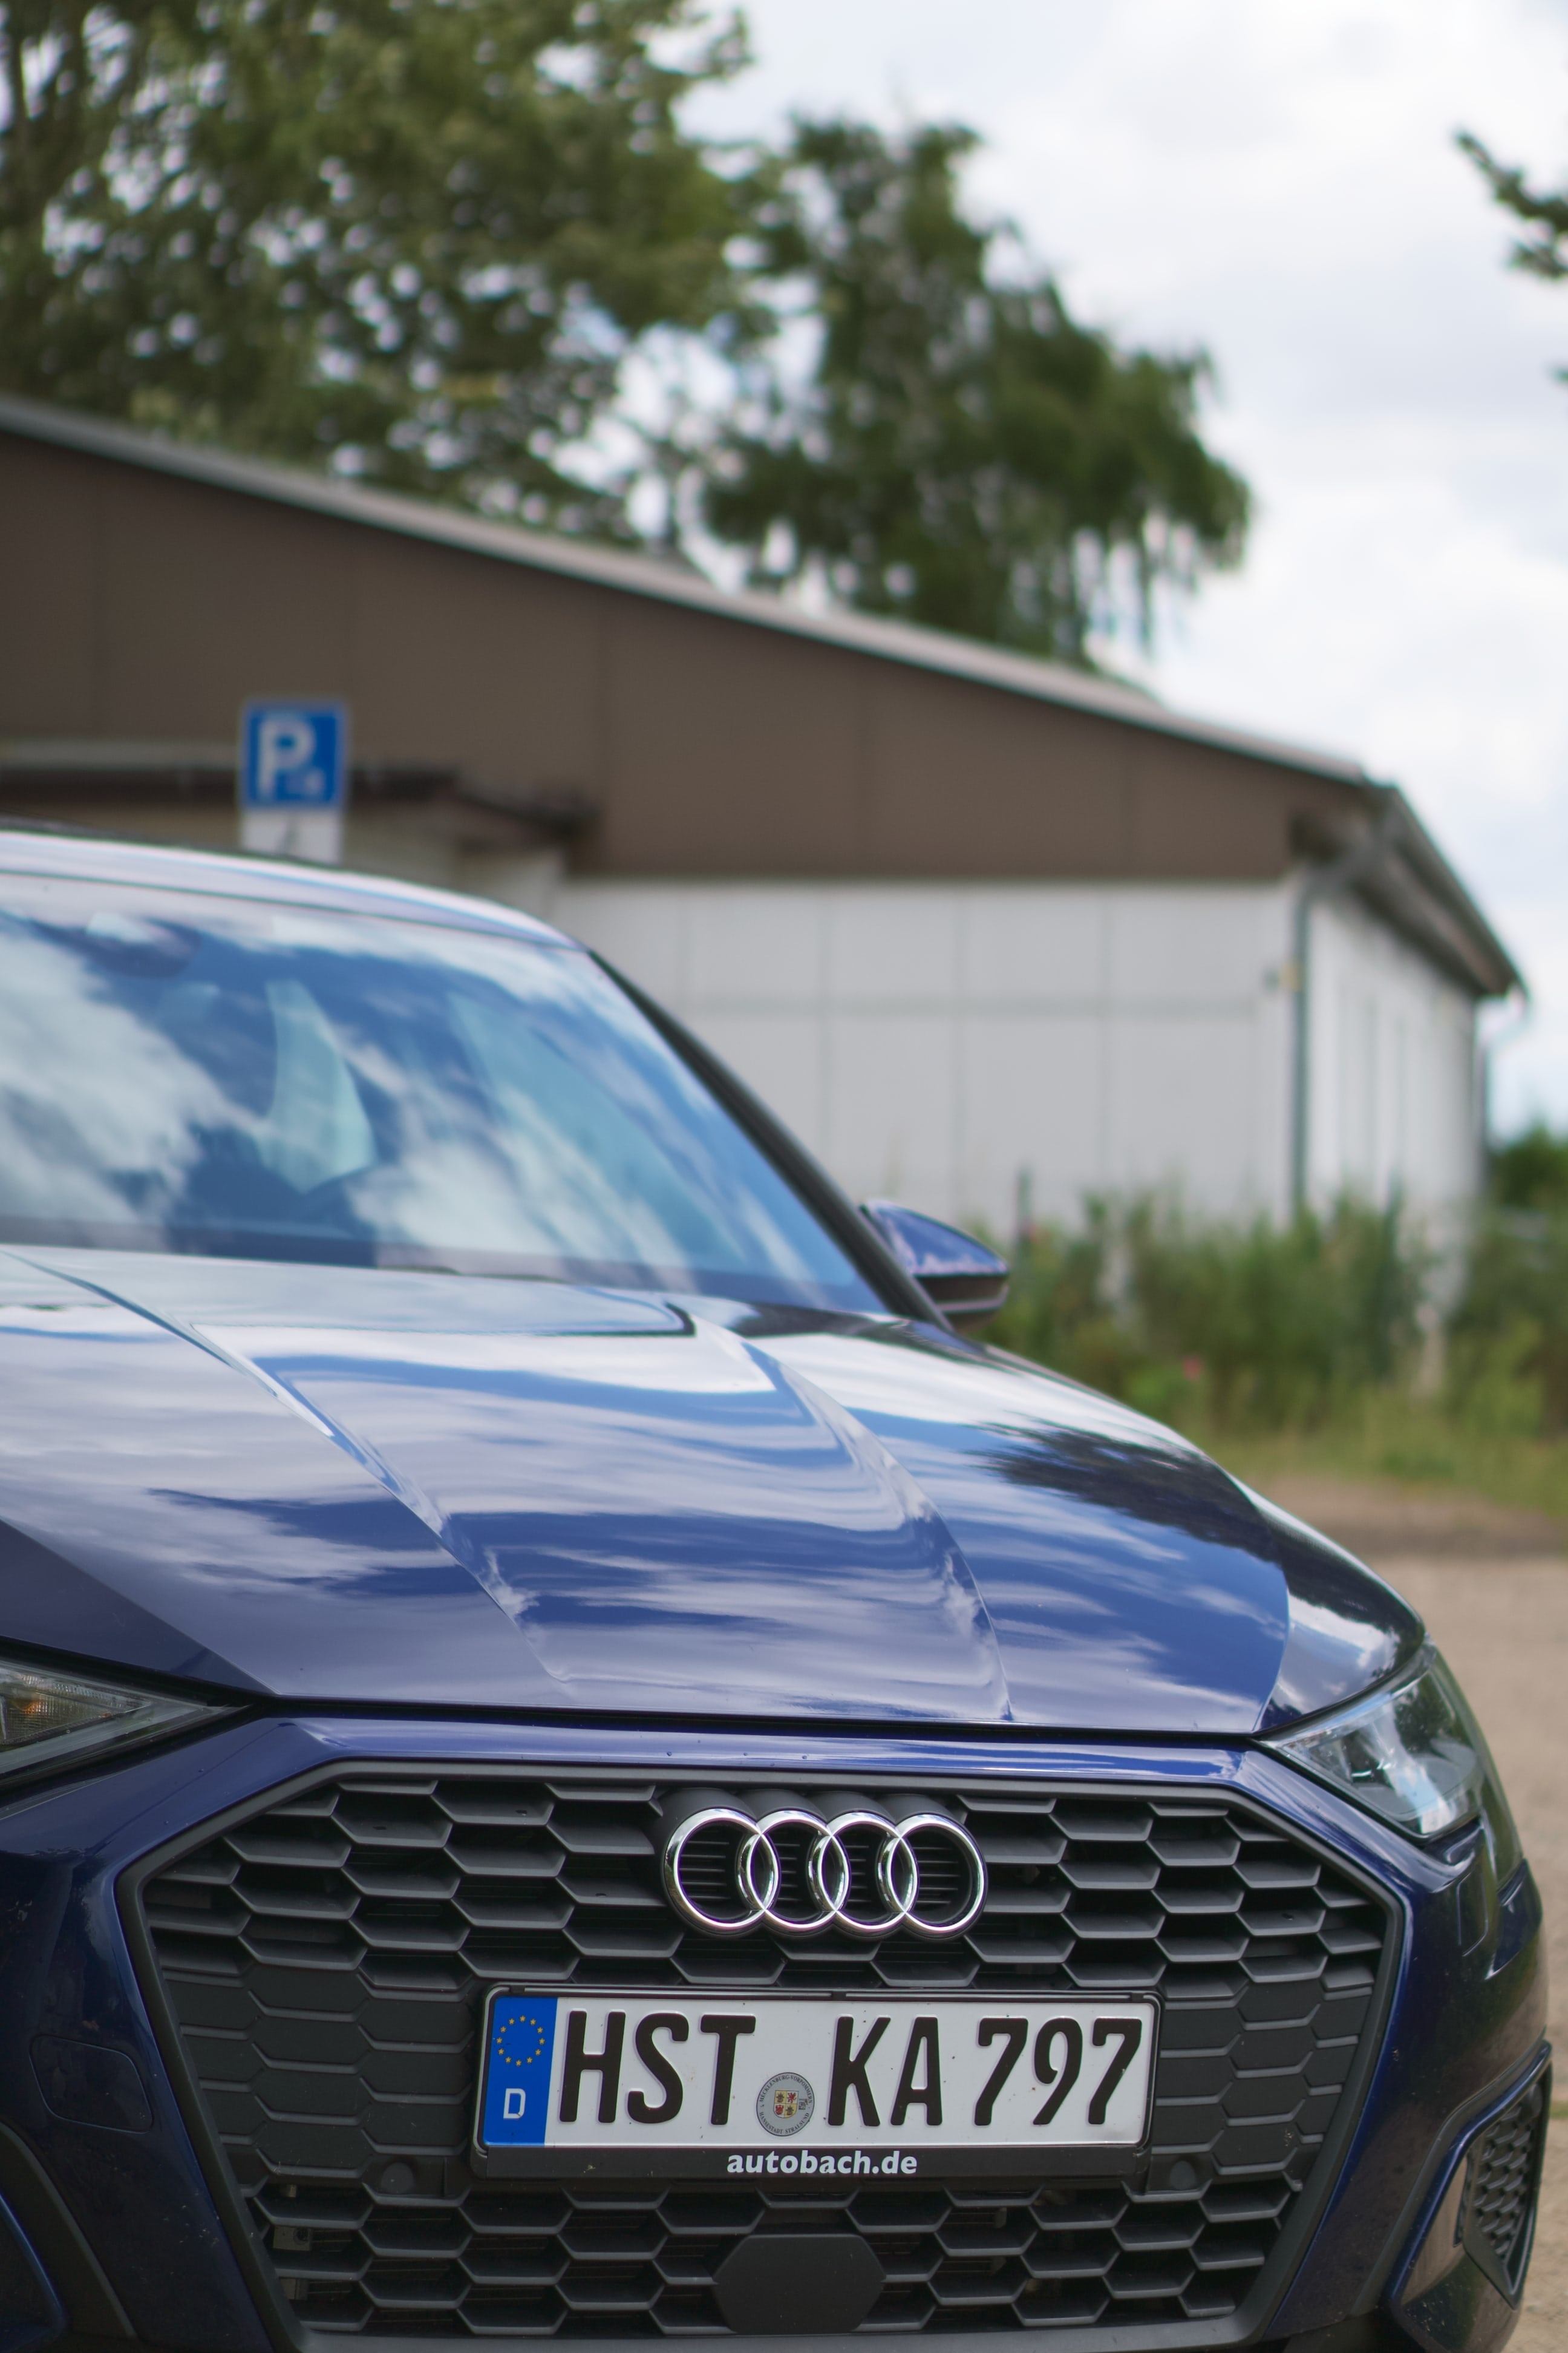plaka: (465, 1977, 1160, 2155)
